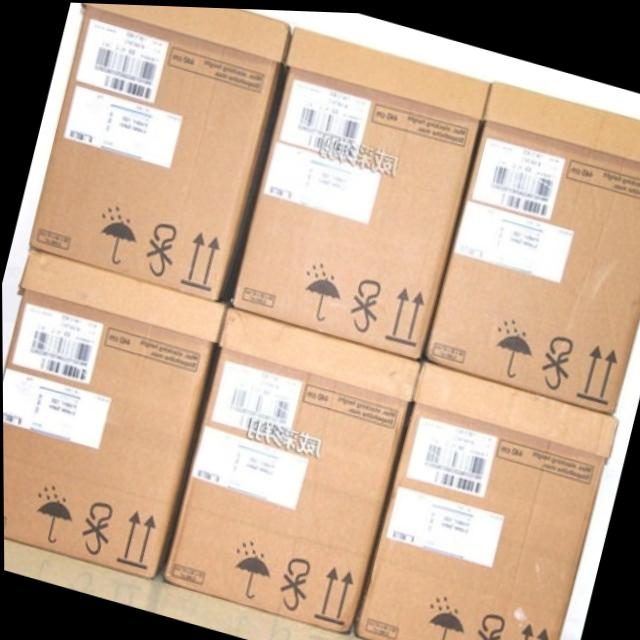box: (229, 24, 491, 359), (160, 303, 421, 631), (28, 2, 292, 300), (352, 359, 617, 640), (2, 248, 227, 577), (421, 77, 640, 412)
